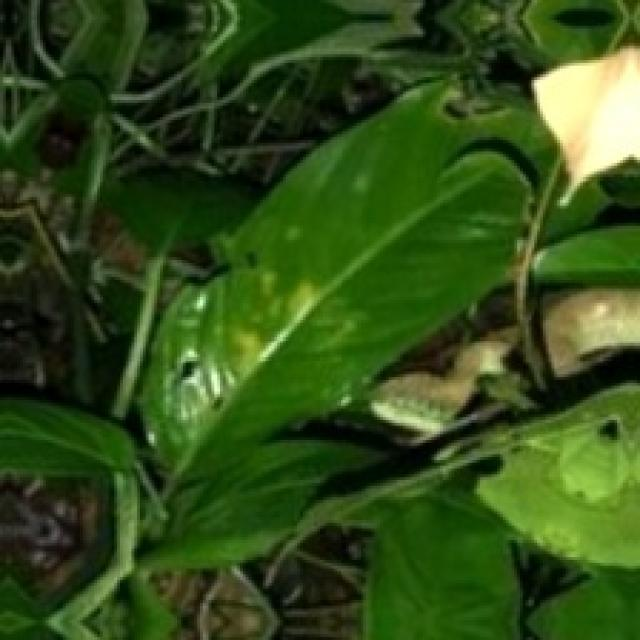north ph temple pitviper: (375, 326, 513, 433), (545, 290, 640, 376)
